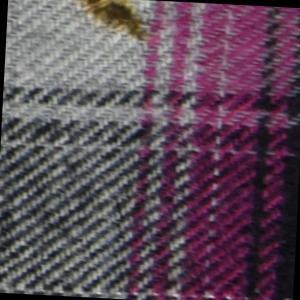Damage: (83, 1, 139, 31)
Oil Stain: (70, 1, 158, 47)
